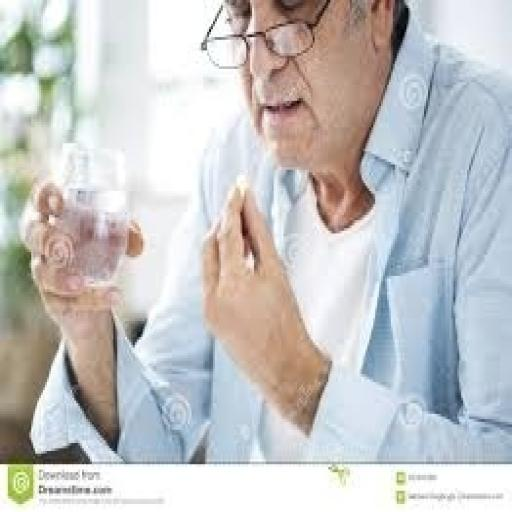drinking: (45, 140, 129, 292)
